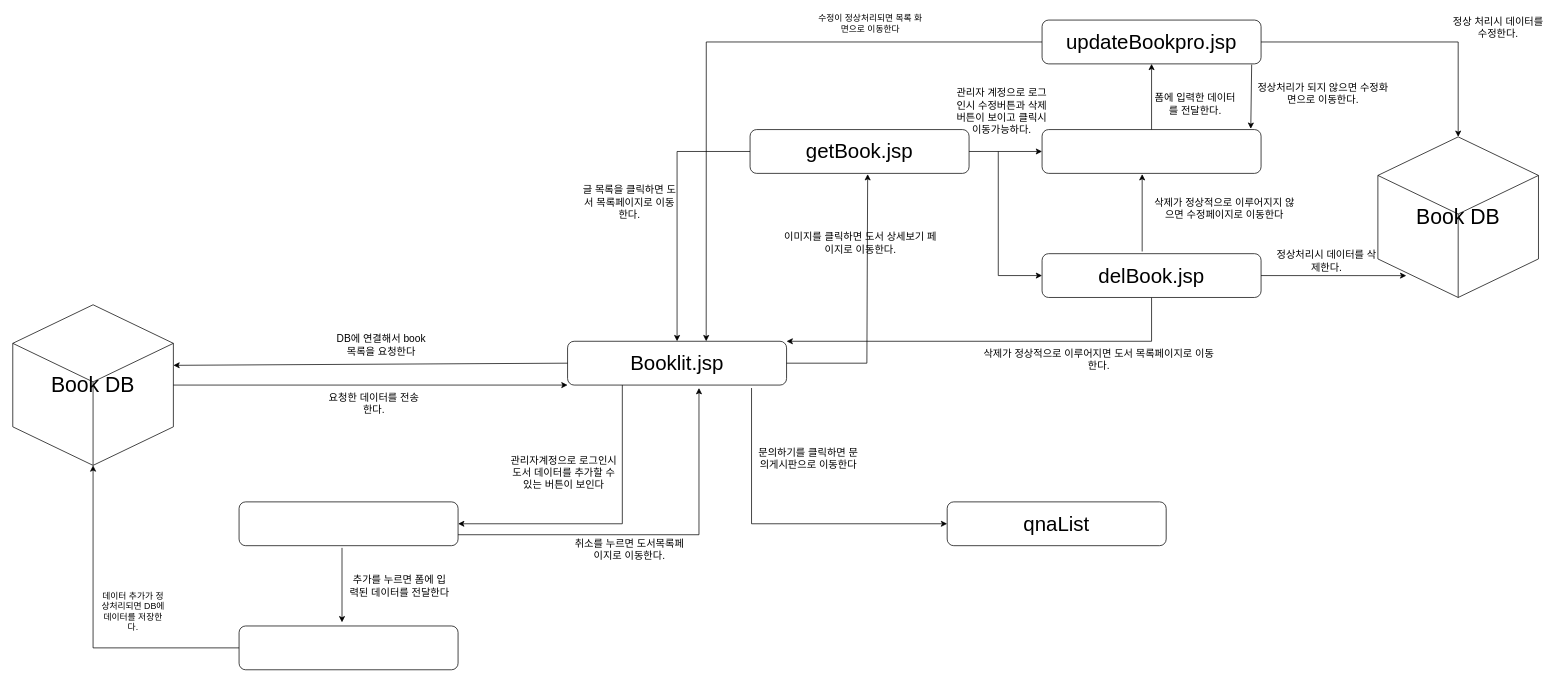
Some shapes in this 1559 by 683 pixel diagram are drawn without their labels. The centre of each missing label's shape, as x and y in pixels:
addBook.jsp: pixel 348 523
addBookpro.jsp: pixel 348 647
updateBook.jsp: pixel 1151 151
